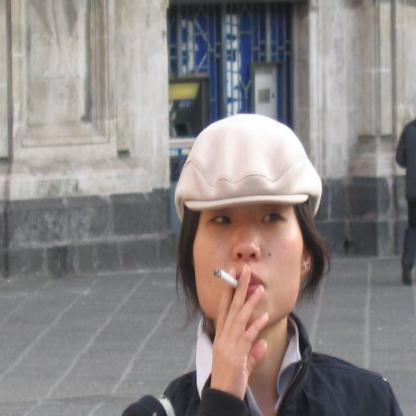smoking: (214, 269, 244, 291)
